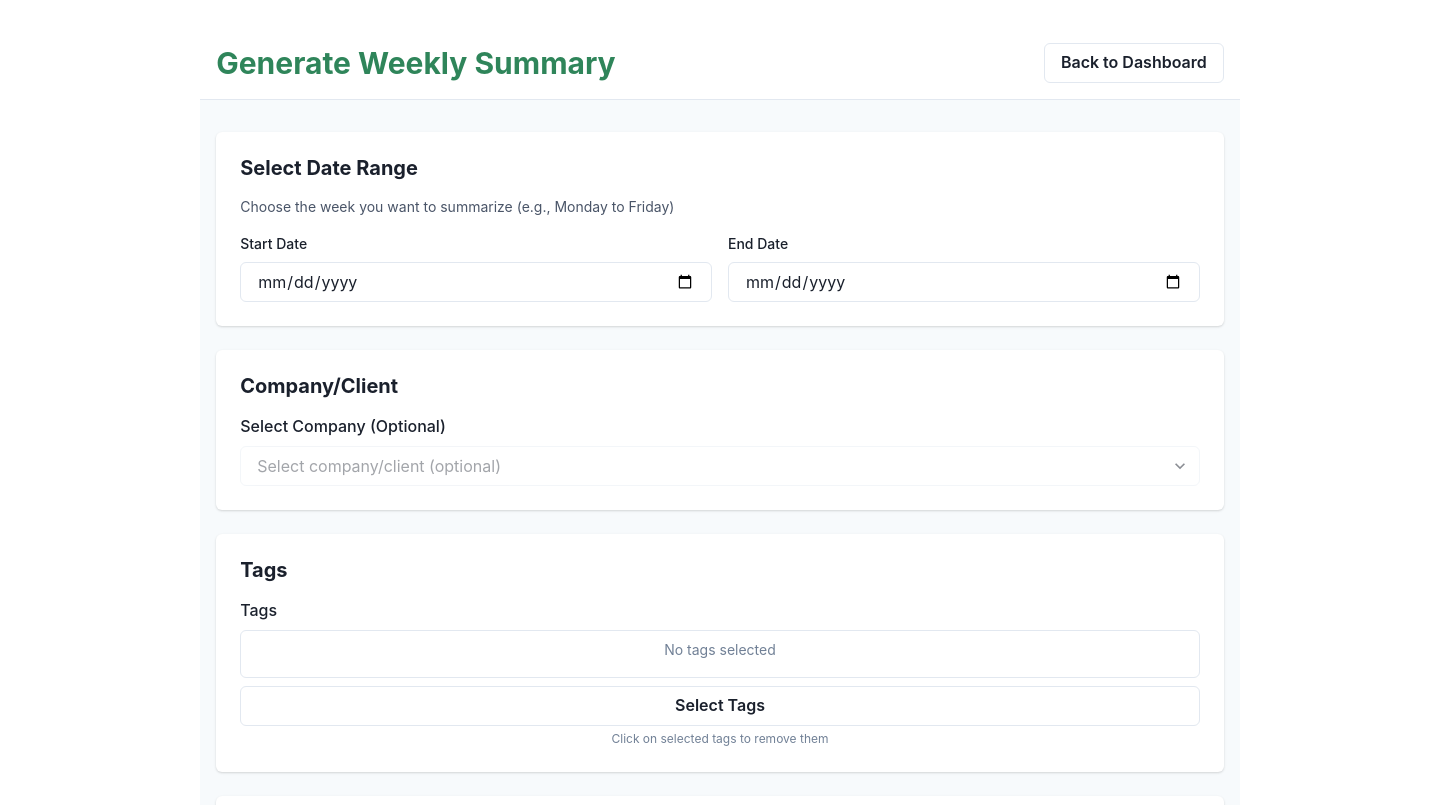
Test: CreateWeeklyUpdate page › generates a weekly summary and renders the preview
Type "2026-07-01" into the date field below "Start Date". click: x=476, y=282
box: [240, 262, 712, 302]
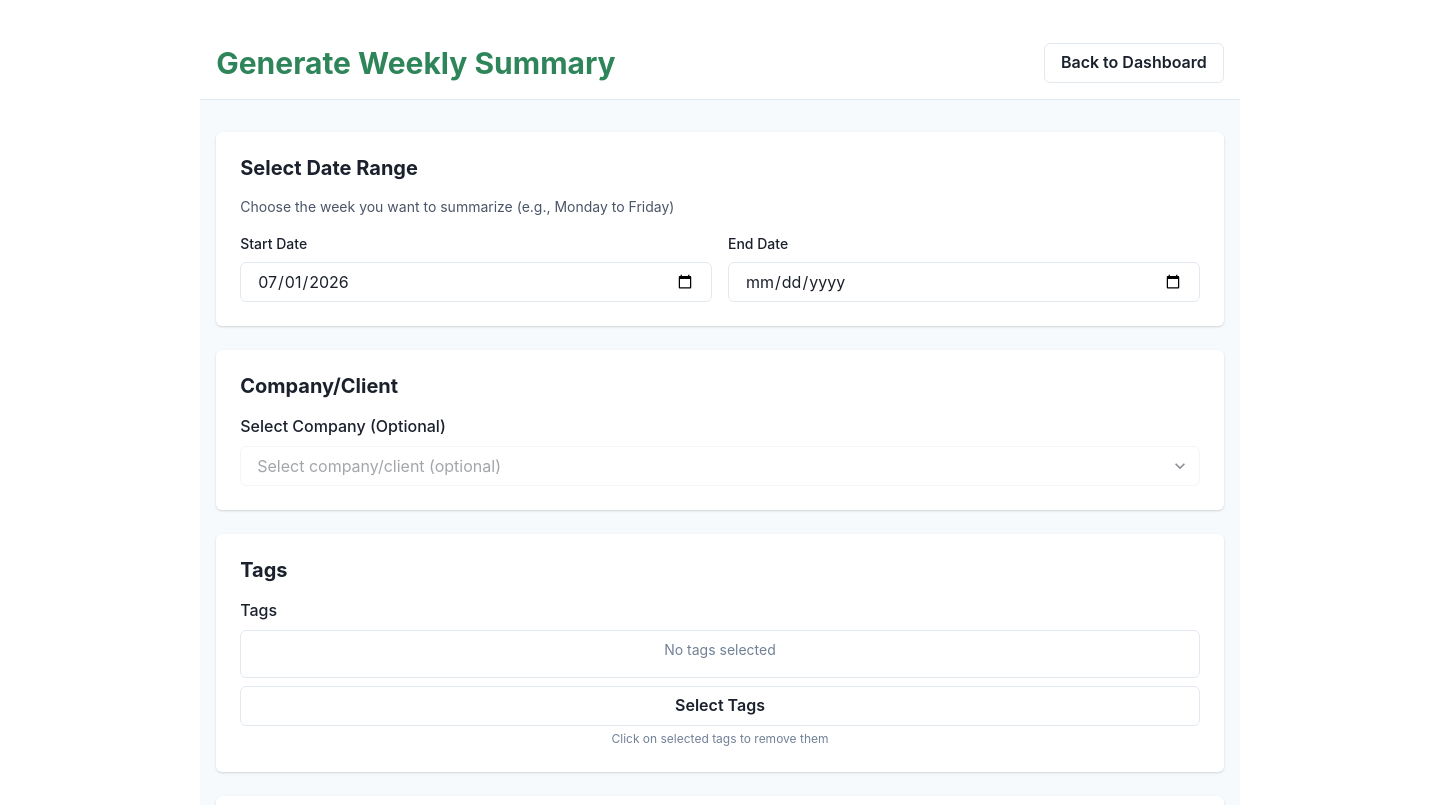
Type "2026-07-05" into the date field below "End Date". click: x=964, y=282
box: [728, 262, 1200, 302]
(page scrolled)
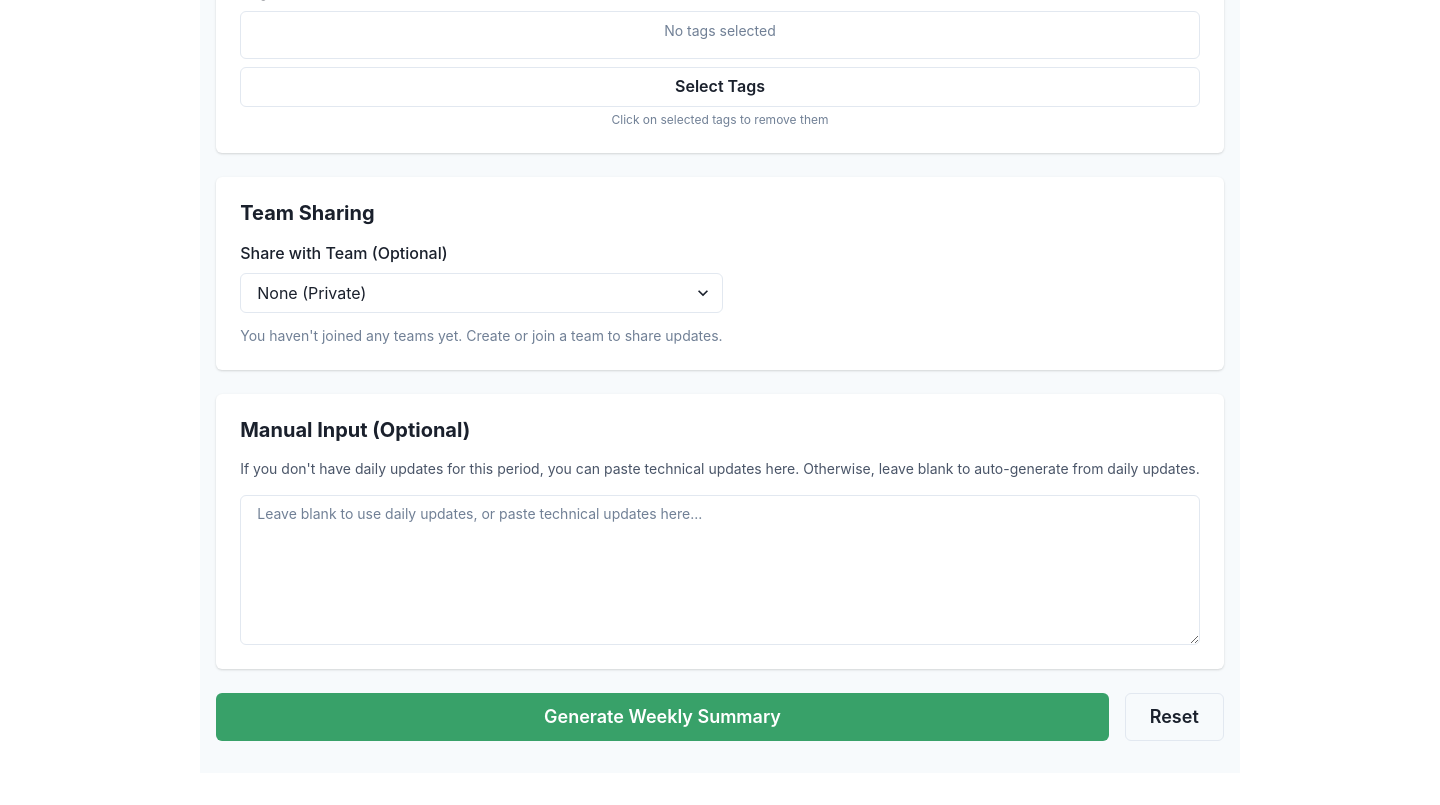
Click the button "Generate Weekly Summary". click: x=662, y=717
box: [216, 693, 1109, 741]
(page scrolled)
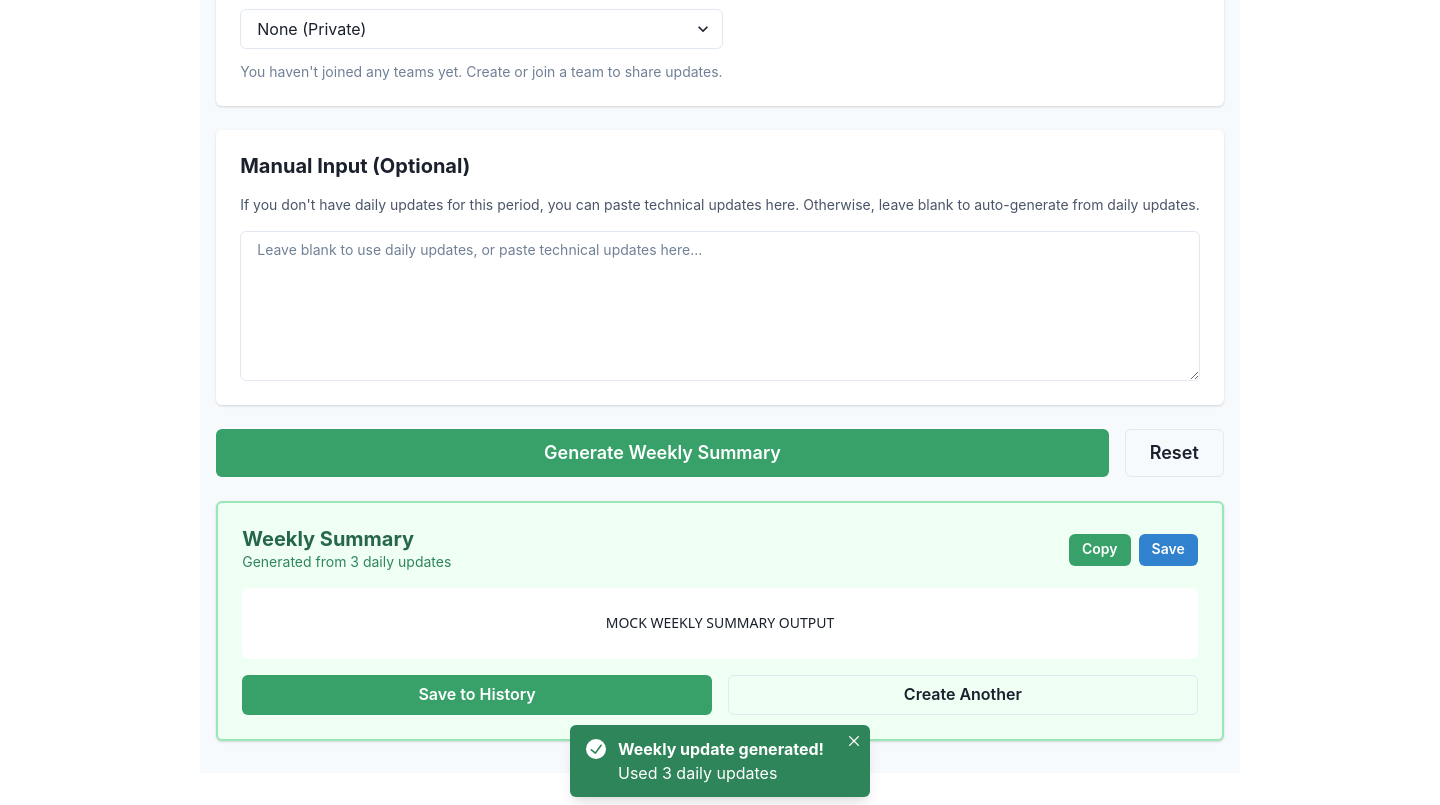
Now the text "MOCK WEEKLY SUMMARY OUTPUT" is shown, box [242, 588, 1198, 659]
Now the text "Generated from 3 daily updates" is shown, box [242, 551, 451, 572]
